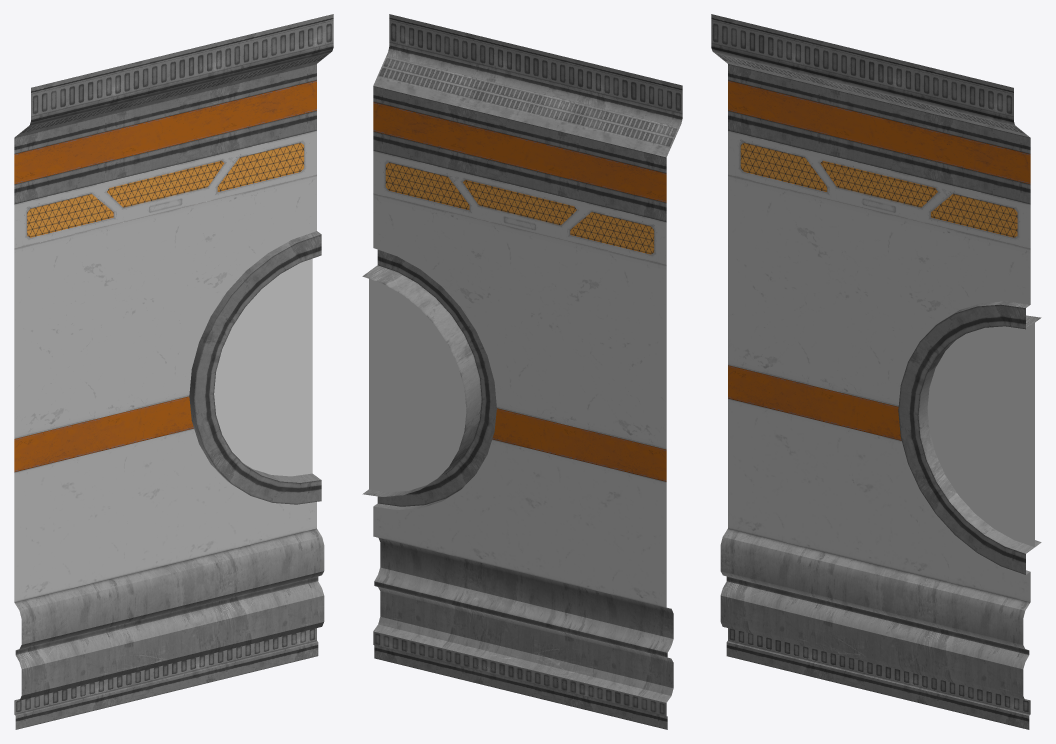
The model's file is Wall_WindowLeft.fbx.
3 renders of one model, left to right at view 1: azimuth 30°, elevation 25°; view 2: azimuth 150°, elevation 25°; view 3: azimuth 330°, elevation 25°, orthographic. The views are drawn at different scales.
Visible parts, largest first — view 1: Wall_WindowLeft, Wall_WindowLeft_Glass; view 2: Wall_WindowLeft, Wall_WindowLeft_Glass; view 3: Wall_WindowLeft, Wall_WindowLeft_Glass.
Part boxes in pixels (x1,y1,x2,y2): Wall_WindowLeft: (14, 14, 333, 729); Wall_WindowLeft_Glass: (214, 258, 312, 476); Wall_WindowLeft: (362, 14, 682, 729); Wall_WindowLeft_Glass: (369, 279, 466, 492); Wall_WindowLeft: (711, 14, 1041, 729); Wall_WindowLeft_Glass: (927, 323, 1034, 547).
Size of the model in its own units: 4.25 by 8.76 by 0.6781.
